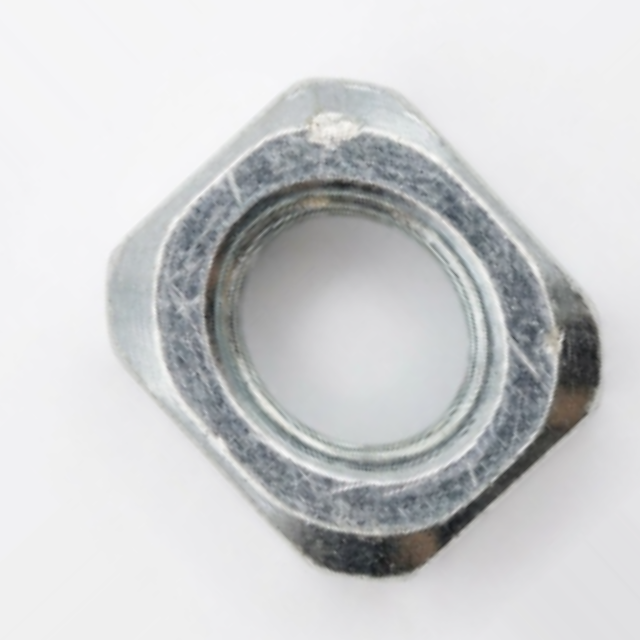defect: (305, 108, 367, 146), (534, 316, 575, 356)
